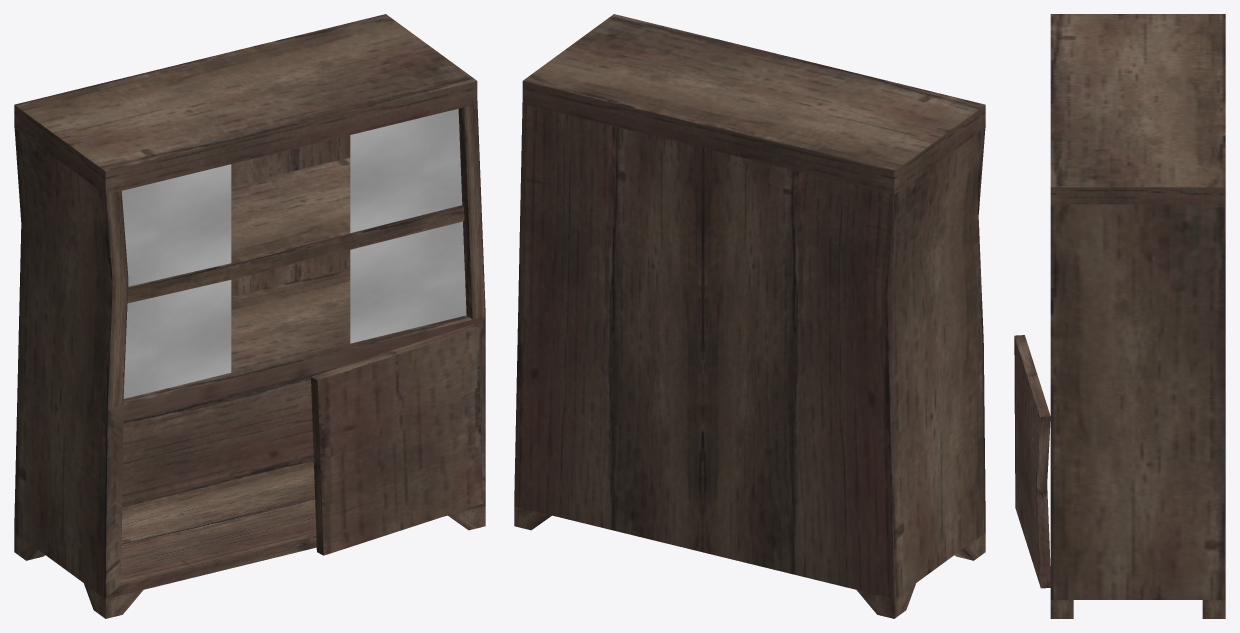
File: cabinet_jeweler_shanty_cabinetTall.fbx
The picture shows the model from 3 angles, left to right: view 1: azimuth 30°, elevation 25°; view 2: azimuth 150°, elevation 25°; view 3: azimuth 270°, elevation 25°; orthographic projection. The views are drawn at different scales.
Visible parts, largest first — view 1: cabinet_base, cabinet_crown, cabinet_base1, glass03, glass02, cabinet_shelf_2, cabinet_foot_1; view 2: cabinet_base, cabinet_crown, cabinet_foot_4; view 3: cabinet_base, cabinet_crown, cabinet_base1, cabinet_foot_3, cabinet_foot_2.
Boxes of the visible parts, x1,y1,x2,y2 form: cabinet_base: (14,98,485,598); cabinet_crown: (14,14,477,194); cabinet_base1: (311,324,482,555); glass03: (121,108,462,286); glass02: (123,221,466,398); cabinet_shelf_2: (127,157,464,303); cabinet_foot_1: (84,583,142,618); cabinet_base: (514,101,985,598); cabinet_crown: (522,14,985,194); cabinet_foot_4: (857,583,915,618); cabinet_base: (1050,204,1225,599); cabinet_crown: (1050,14,1225,204); cabinet_base1: (1014,335,1050,588); cabinet_foot_3: (1050,600,1073,618); cabinet_foot_2: (1202,600,1225,618).
Size of the model in its own units: 500 by 562 by 252.
Materials: 2 (2 with a texture image).
